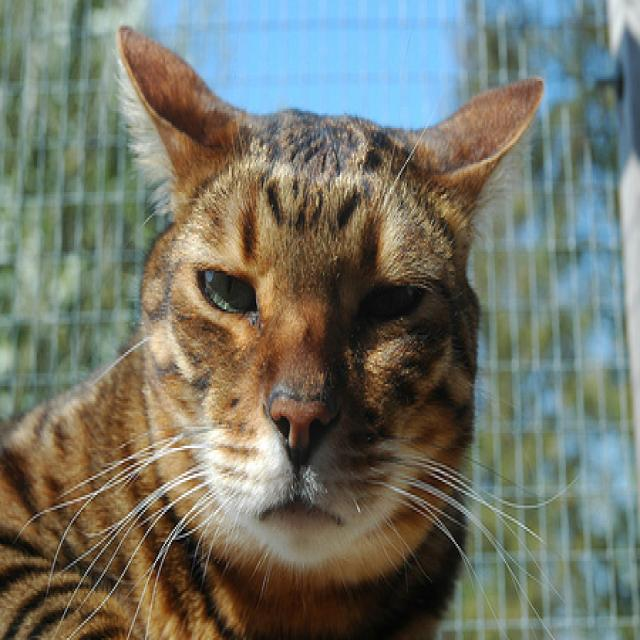Bengal: (0, 23, 552, 640)
